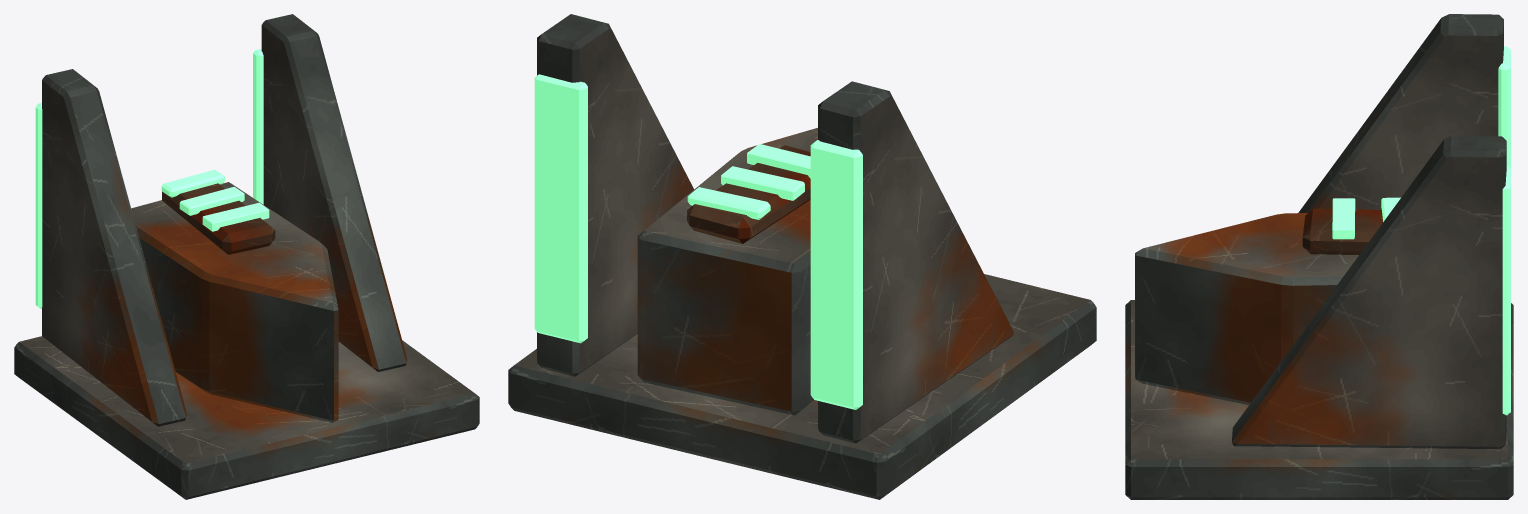
Rendered from R4X_MobilityBooster_LOD1.glb.
3 renders of one model, left to right at view 1: azimuth 30°, elevation 25°; view 2: azimuth 150°, elevation 25°; view 3: azimuth 270°, elevation 25°, orthographic. The views are drawn at different scales.
Parts seen in each view (by area): view 1: R4X_MobilityBooster_LOD1; view 2: R4X_MobilityBooster_LOD1; view 3: R4X_MobilityBooster_LOD1.
Boxes of the visible parts, <box> form: R4X_MobilityBooster_LOD1: <box>14,14,479,499</box>; R4X_MobilityBooster_LOD1: <box>508,14,1096,499</box>; R4X_MobilityBooster_LOD1: <box>1125,14,1513,499</box>.
Bounding box in the file's own units: 0.52 × 0.5 × 0.52.
4 materials, 3 textured.
